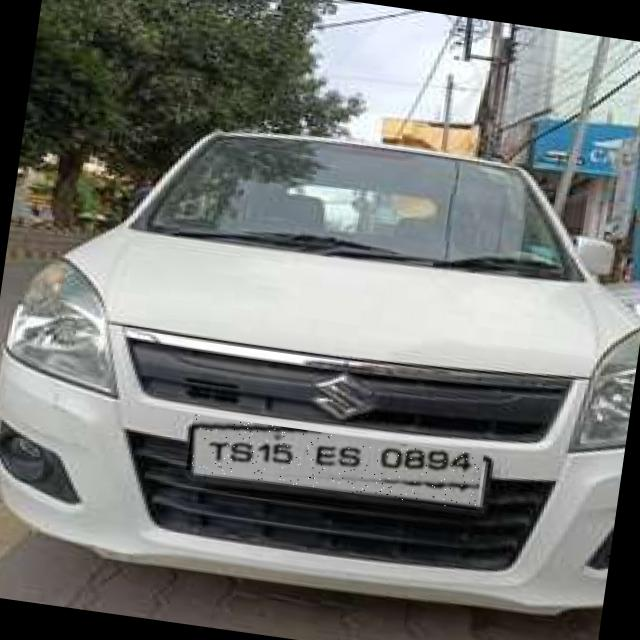Plate: (187, 416, 485, 512)
